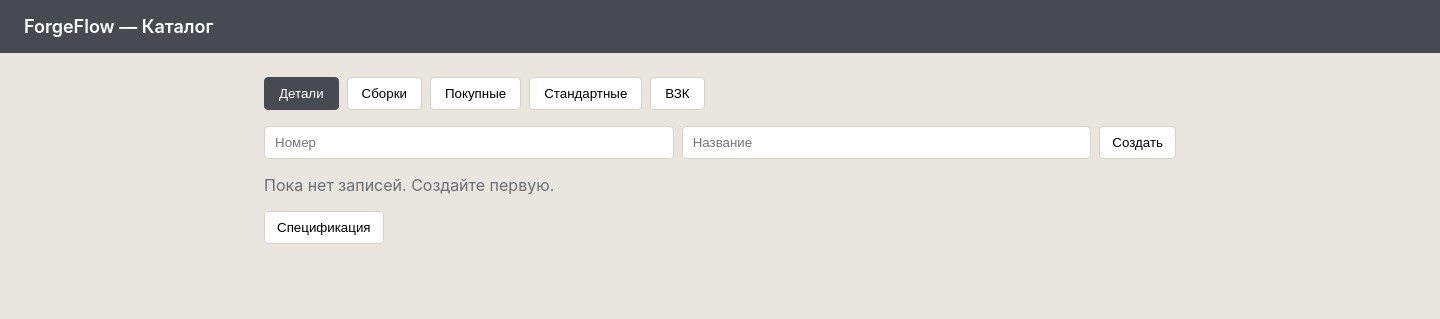
Test: App › показывает ошибку при дубликате номера (409)
Expected: the text "Пока нет записей. Создайте первую." is shown, [264, 175, 554, 195]
Step 1. Type "P-1" into the field labelled "Номер" → (469, 142), box [264, 126, 674, 159]
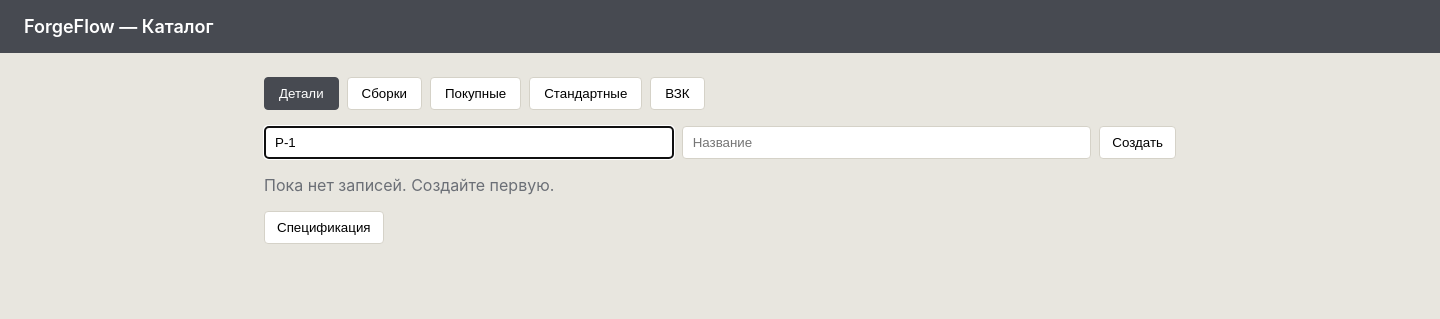
Step 2. Type "Деталь" into the field labelled "Название" → (887, 142), box [682, 126, 1091, 159]
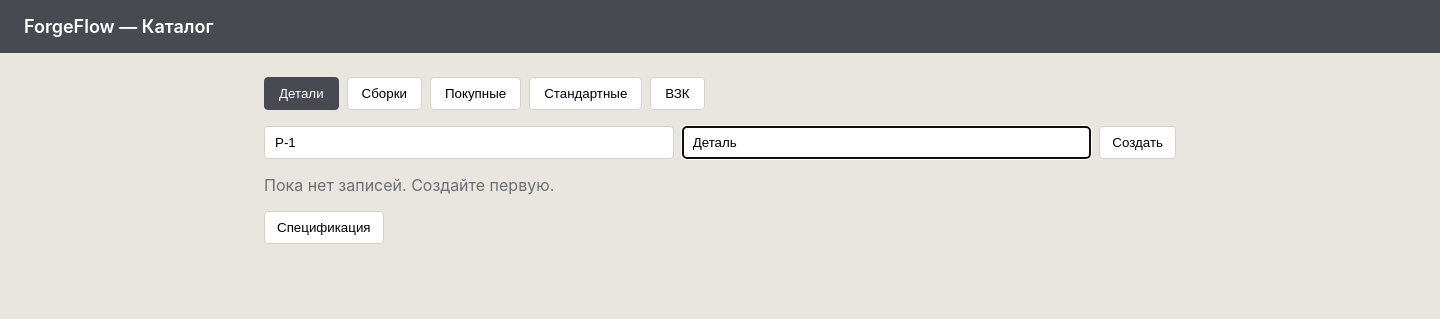
Step 3. Click the button "Создать" → click(1138, 142), box [1099, 126, 1176, 159]
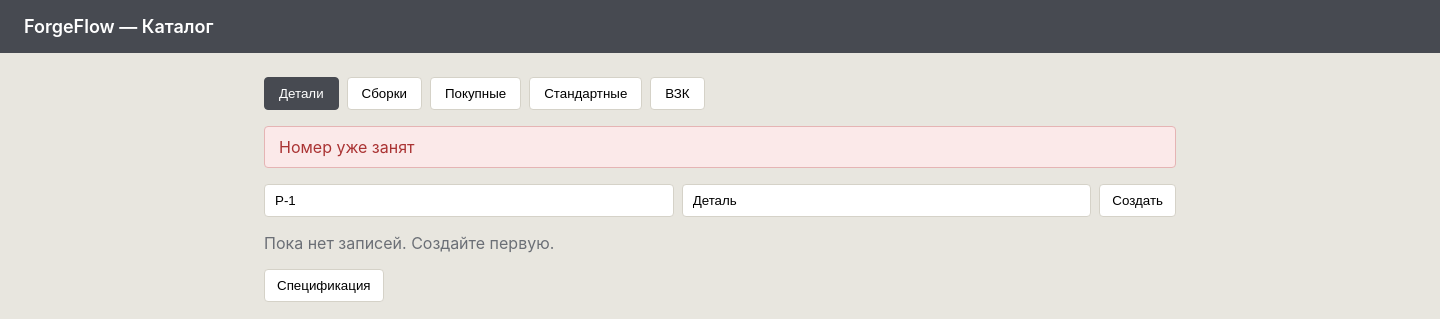
Result: the text "Номер уже занят" is shown at [264, 126, 1176, 168]
